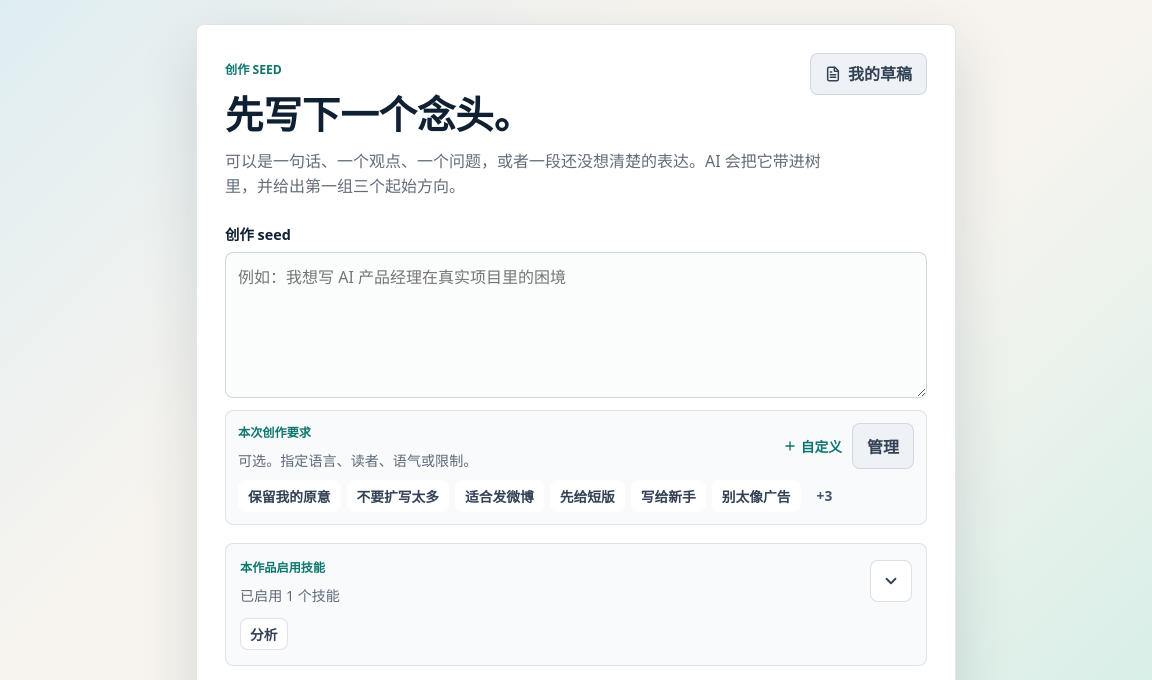
Test case: RootMemorySetup › lets the user sort and reset quick creation request buttons
Step 1. Click the button with aria-label "管理创作要求快捷按钮" → (883, 446), box [852,422,914,468]
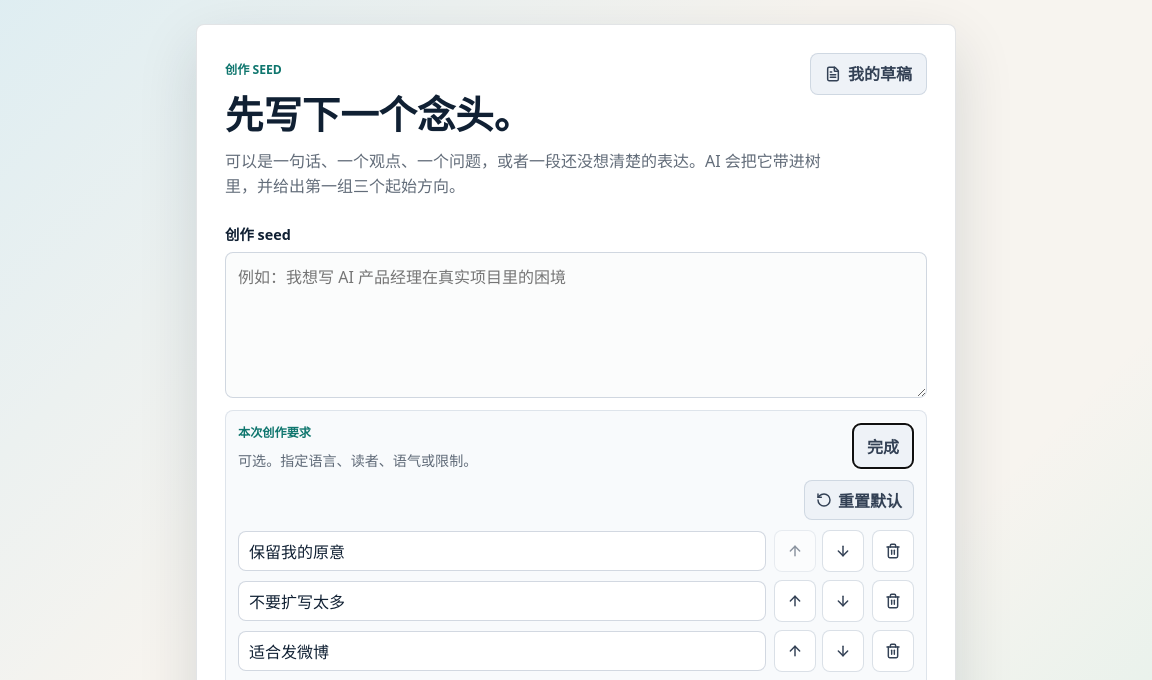
Step 2. Click the button named "下移快捷要求：保留我的原意" → (843, 550), box [822,530,864,572]
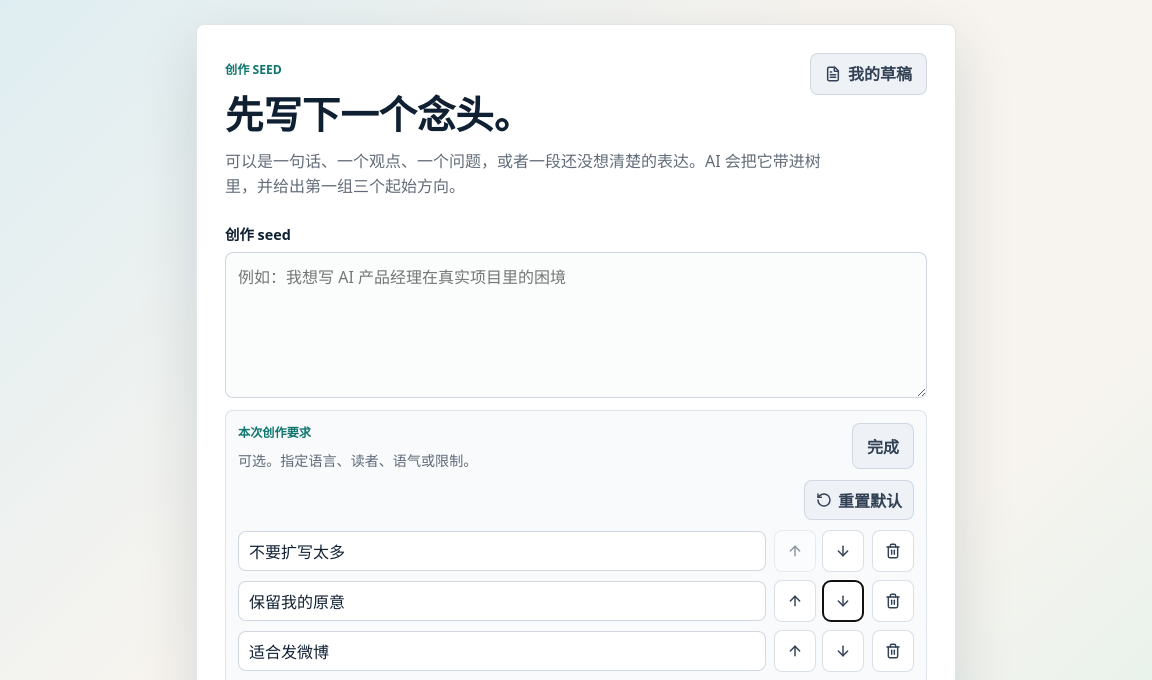
Step 3. Click the button with aria-label "完成管理创作要求快捷按钮" → (883, 446), box [852,422,914,468]
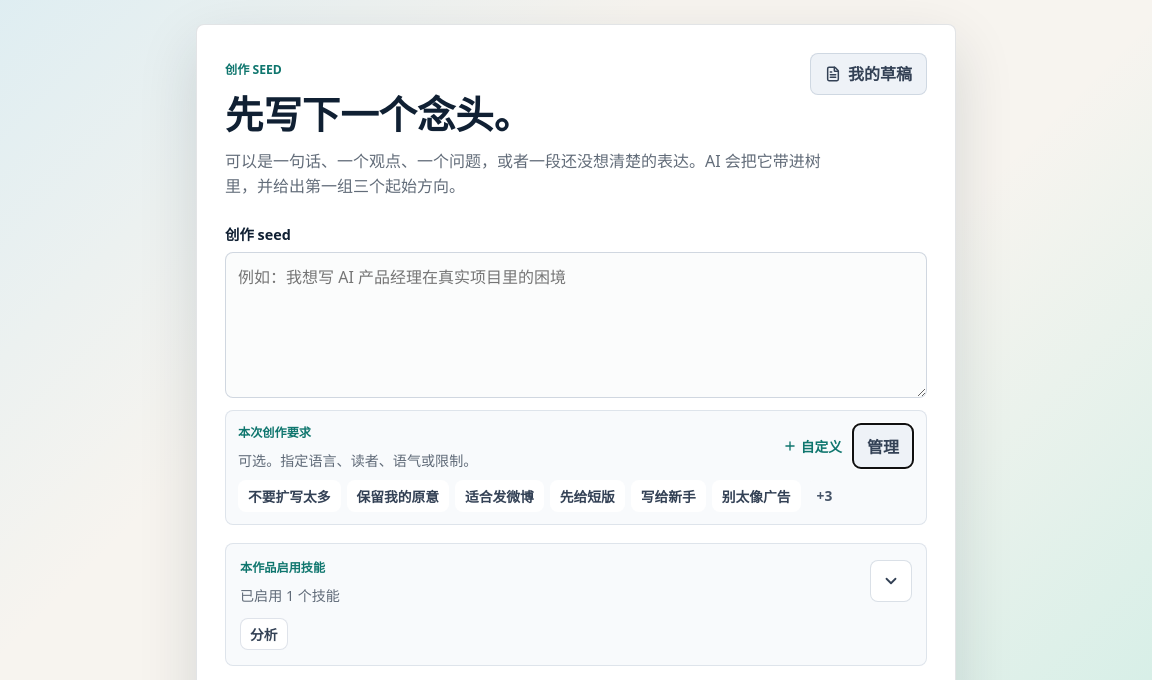
Now the button "不要扩写太多" is shown, box [238,480,340,512]
Step 4. Click the button with aria-label "管理创作要求快捷按钮" → (883, 446), box [852,422,914,468]
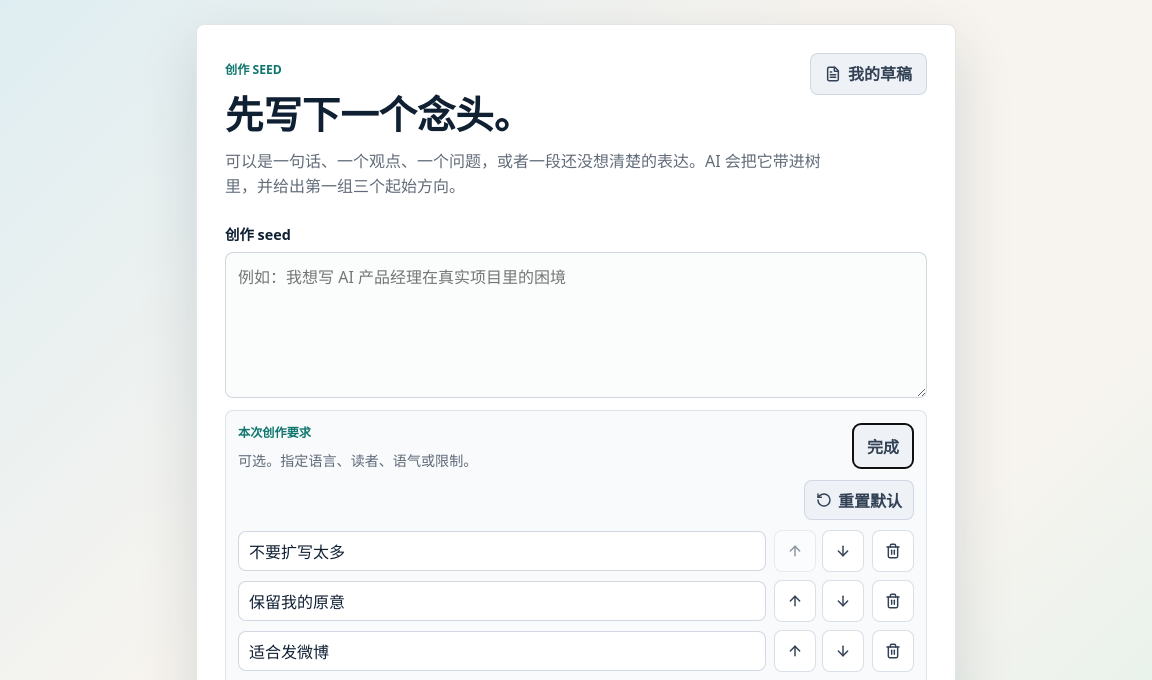
Step 5. Click the button with aria-label "重置默认快捷要求" → (859, 500), box [804,480,914,520]
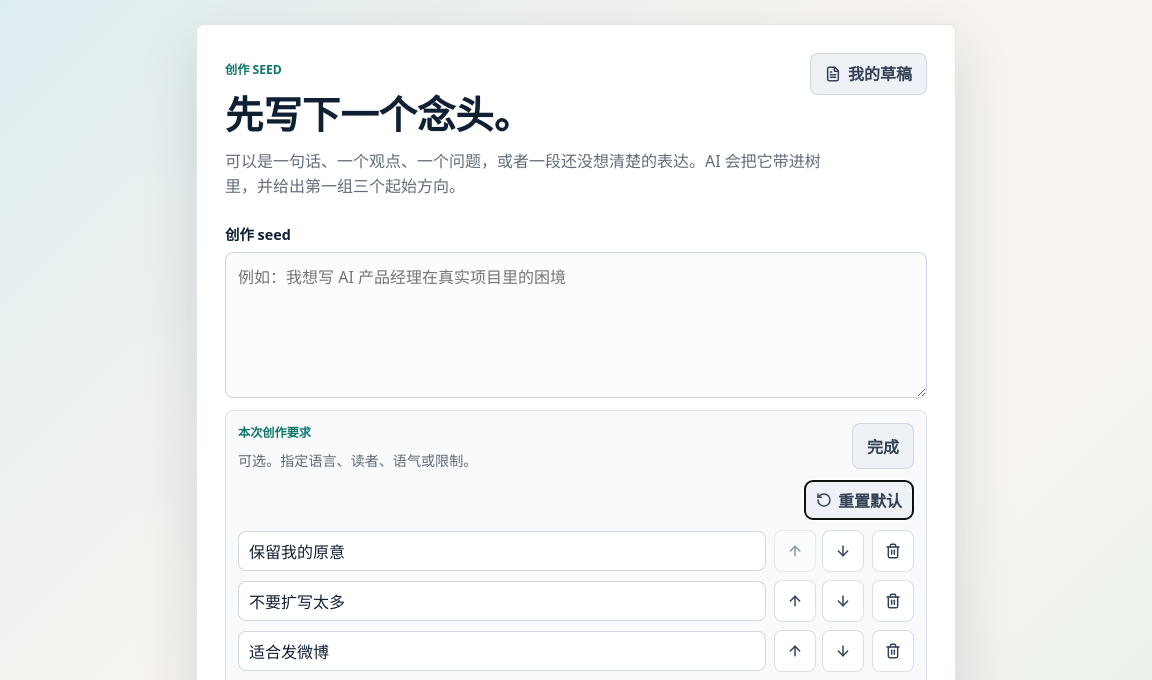
Step 6. Click the button with aria-label "完成管理创作要求快捷按钮" → (883, 446), box [852,422,914,468]
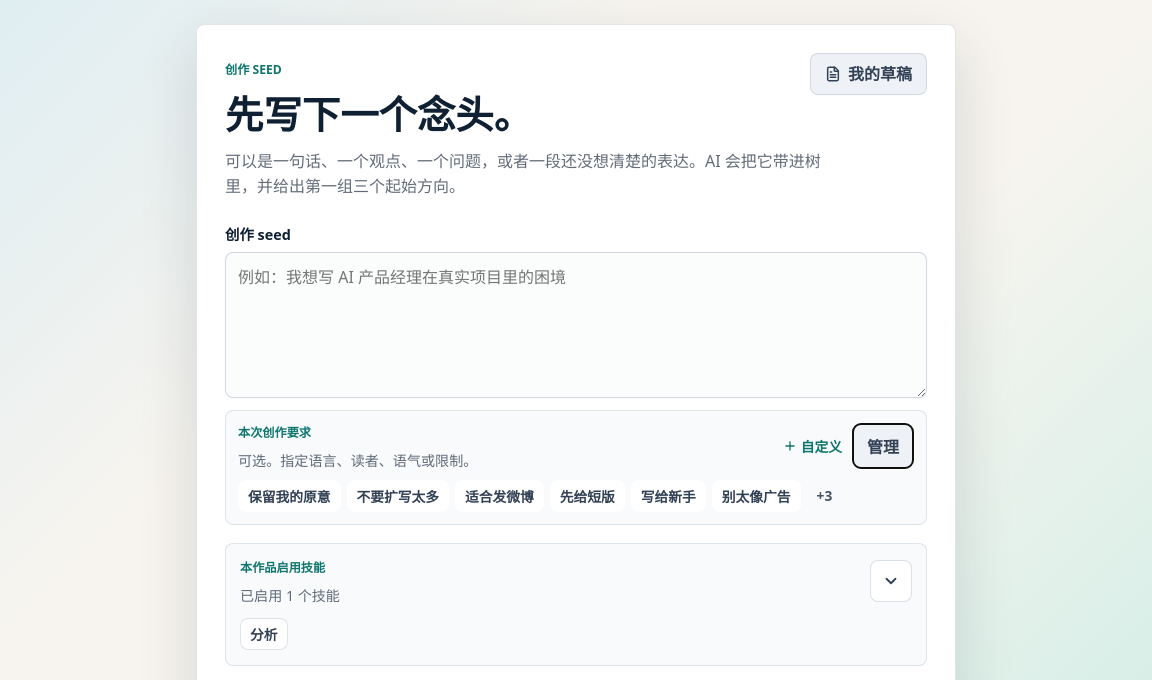
Now the button "保留我的原意" is shown, box [238,480,340,512]
